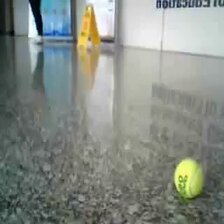tennis: (175, 158, 205, 199)
